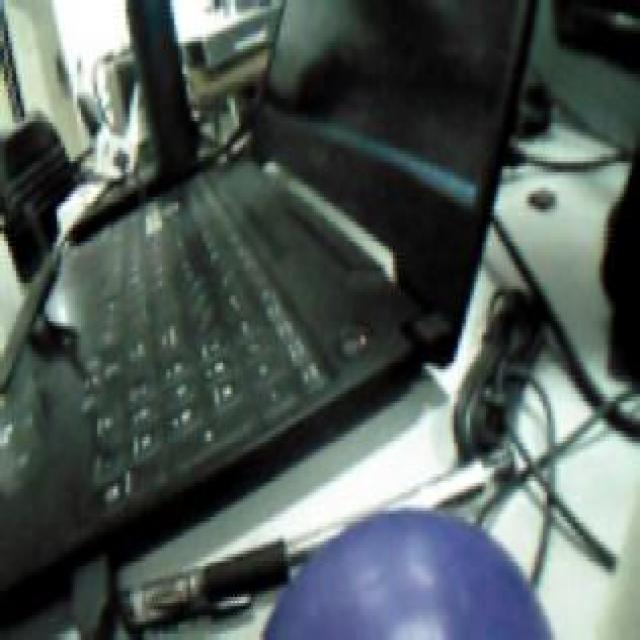BallPurple: (259, 507, 548, 640)
